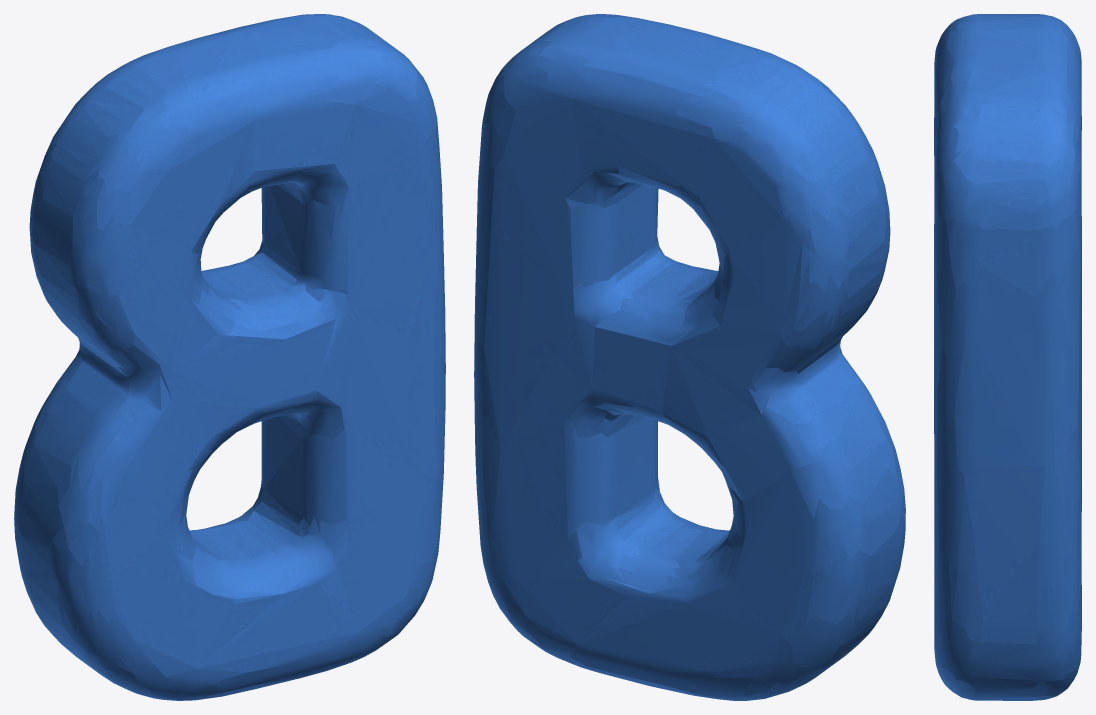
The model's file is letterB.20150bce.glb.
3 views of the same model, side by side, from view 1: azimuth 30°, elevation 25°; view 2: azimuth 150°, elevation 25°; view 3: azimuth 270°, elevation 25° (orthographic). The views are drawn at different scales.
Parts seen in each view (by area): view 1: output_unwrapped; view 2: output_unwrapped; view 3: output_unwrapped.
Part boxes in pixels (x1=…): output_unwrapped: x1=14, y1=14, x2=445, y2=700; output_unwrapped: x1=474, y1=14, x2=905, y2=700; output_unwrapped: x1=934, y1=14, x2=1081, y2=700.
Size of the model in its own units: 1.24 by 1.9 by 0.419.
Materials: 1 (1 with a texture image).
